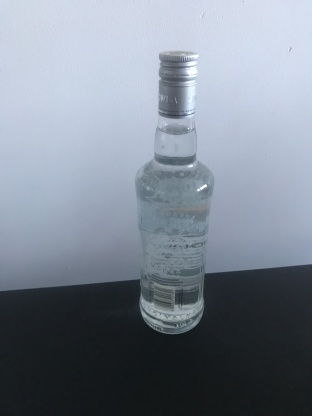nakretka: (157, 47, 199, 121)
